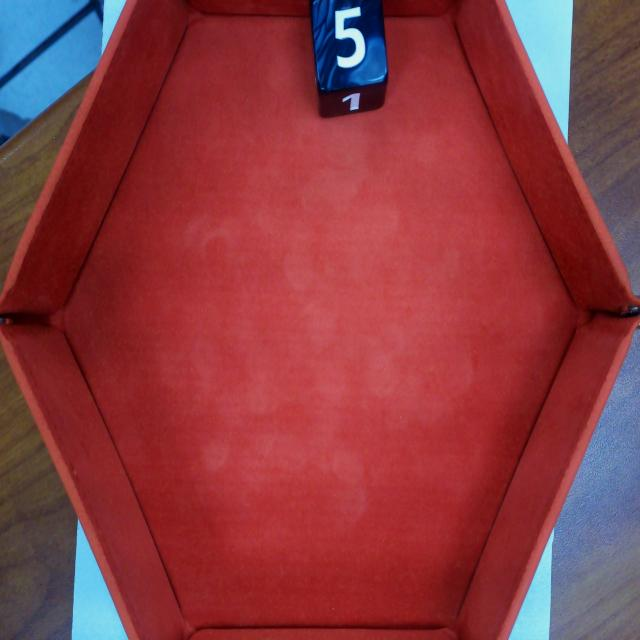dice: (312, 0, 387, 91)
